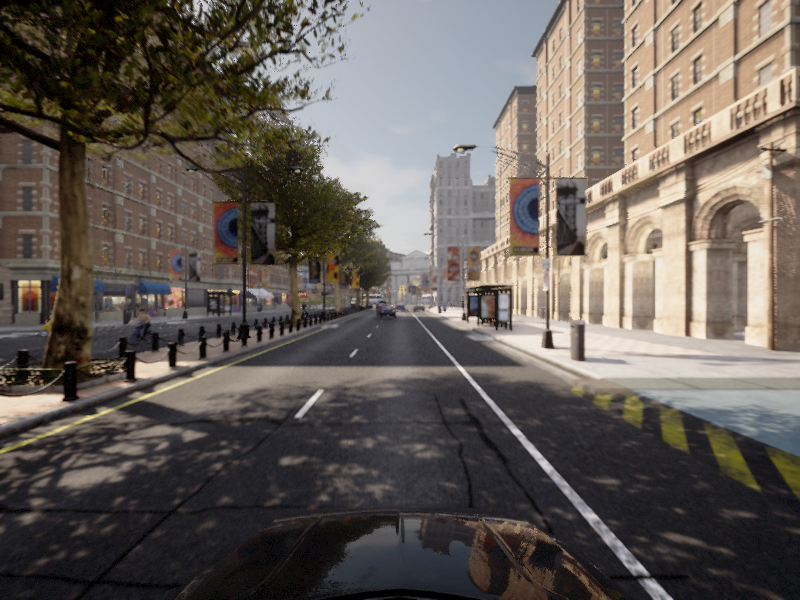vehicle: (119, 307, 161, 346), (37, 306, 83, 337), (375, 305, 396, 318), (298, 301, 308, 317)
